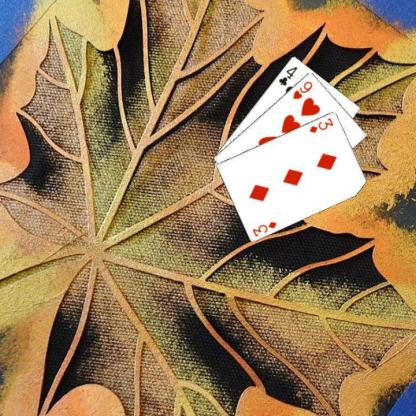3D: (250, 219, 278, 238), (307, 115, 334, 134)
4C: (276, 64, 299, 86)
9H: (290, 78, 314, 100)
